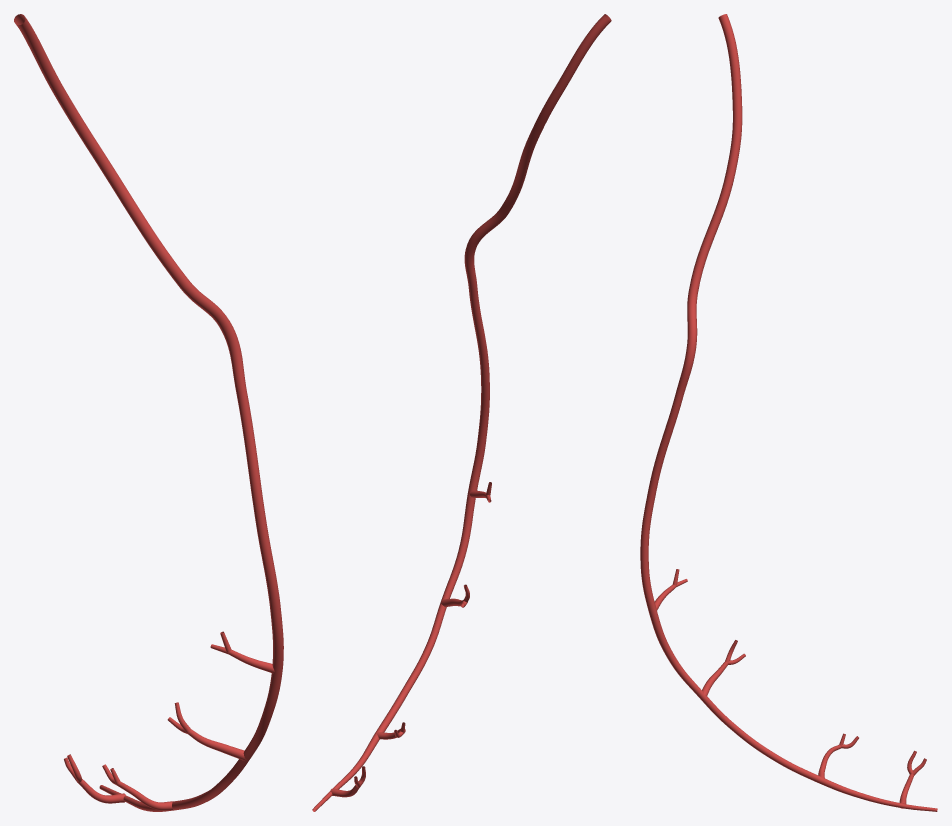
3 renders of one model, left to right at view 1: azimuth 30°, elevation 25°; view 2: azimuth 150°, elevation 25°; view 3: azimuth 270°, elevation 25°, orthographic. The views are drawn at different scales.
Visible parts, largest first — view 1: 右侧阴茎背动脉; view 2: 右侧阴茎背动脉; view 3: 右侧阴茎背动脉.
Part boxes in pixels (x1=…): 右侧阴茎背动脉: x1=14, y1=14, x2=283, y2=811; 右侧阴茎背动脉: x1=312, y1=14, x2=611, y2=811; 右侧阴茎背动脉: x1=640, y1=14, x2=937, y2=811.
Size of the model in its own units: 0.0505 by 0.1966 by 0.074.
